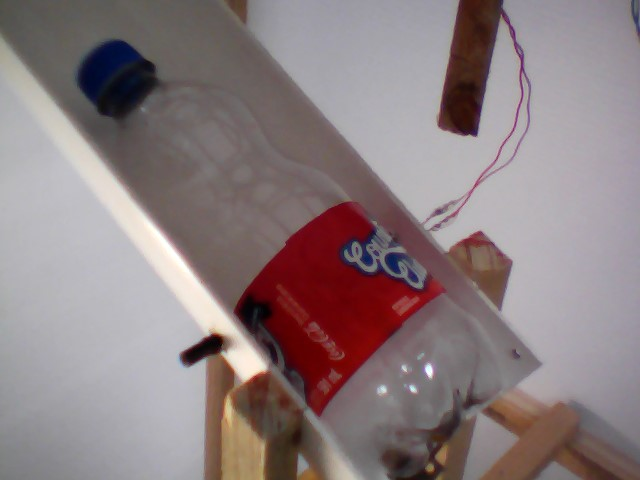plastico: (64, 35, 512, 480)
